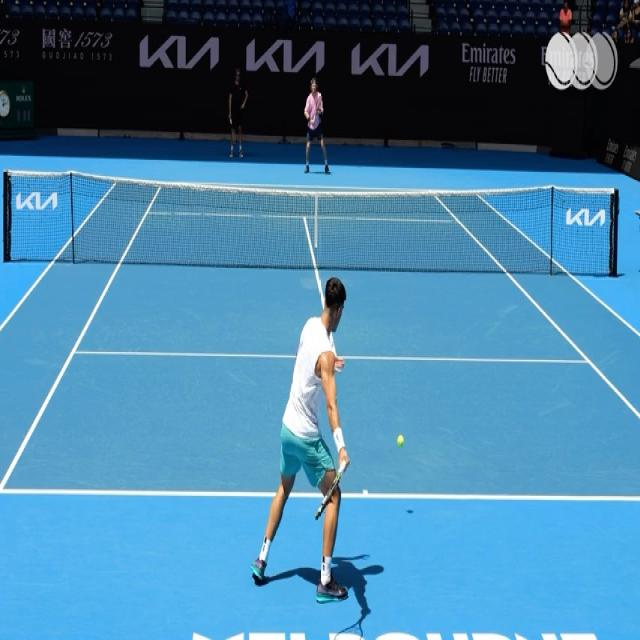forehand-ready: (253, 277, 405, 604)
